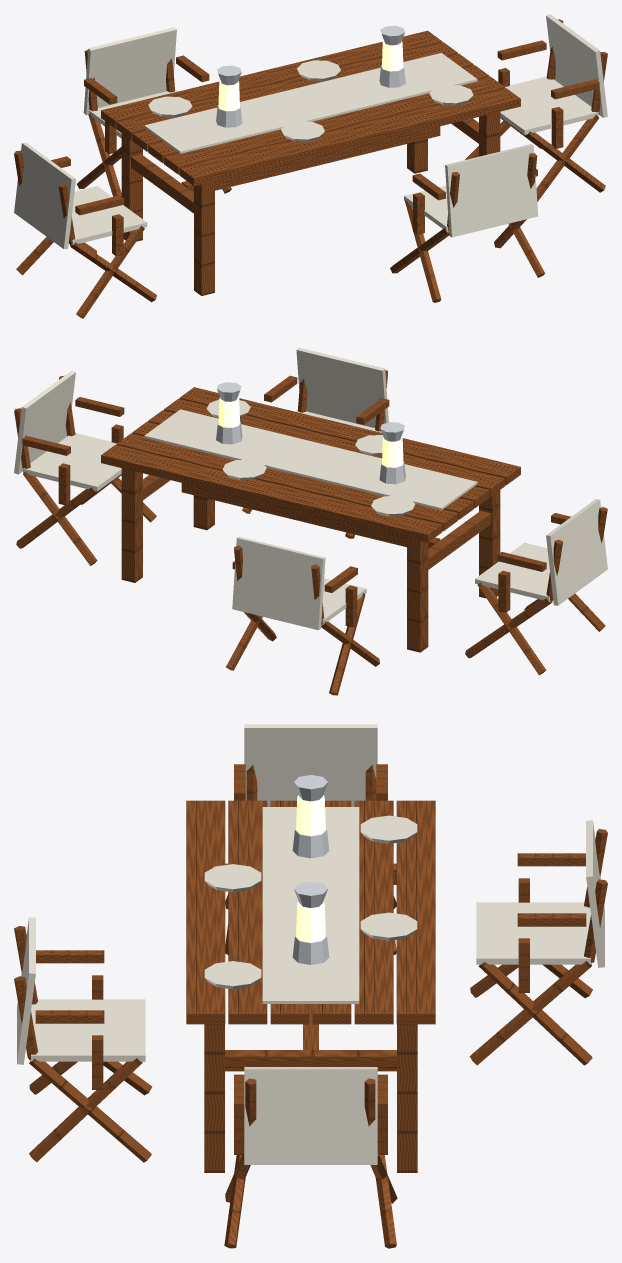
Rendered from safari-camp-and-bush-lodge-dining-table-and-camp-chair-675dd1f7__37689.glb.
3 views of the same model, one above another, from view 1: azimuth 30°, elevation 25°; view 2: azimuth 150°, elevation 25°; view 3: azimuth 270°, elevation 25° (orthographic). The views are drawn at different scales.
Parts seen in each view (by area): view 1: dining-table-and-camp-chairs-timber, dining-table-and-camp-chairs-canvas, dining-table-and-camp-chairs-steel, dining-table-and-camp-chairs-lamp; view 2: dining-table-and-camp-chairs-timber, dining-table-and-camp-chairs-canvas, dining-table-and-camp-chairs-steel, dining-table-and-camp-chairs-lamp; view 3: dining-table-and-camp-chairs-timber, dining-table-and-camp-chairs-canvas, dining-table-and-camp-chairs-steel, dining-table-and-camp-chairs-lamp.
Boxes of the visible parts, left/top/right/bottom form: dining-table-and-camp-chairs-timber: left=14, top=19, right=607, bottom=318; dining-table-and-camp-chairs-canvas: left=14, top=14, right=607, bottom=249; dining-table-and-camp-chairs-steel: left=216, top=25, right=405, bottom=127; dining-table-and-camp-chairs-lamp: left=218, top=40, right=403, bottom=110; dining-table-and-camp-chairs-timber: left=14, top=370, right=607, bottom=695; dining-table-and-camp-chairs-canvas: left=14, top=347, right=607, bottom=630; dining-table-and-camp-chairs-steel: left=216, top=382, right=405, bottom=484; dining-table-and-camp-chairs-lamp: left=218, top=397, right=403, bottom=467; dining-table-and-camp-chairs-timber: left=14, top=764, right=607, bottom=1248; dining-table-and-camp-chairs-canvas: left=17, top=724, right=604, bottom=1164; dining-table-and-camp-chairs-steel: left=292, top=775, right=329, bottom=964; dining-table-and-camp-chairs-lamp: left=296, top=795, right=325, bottom=942.
Size of the model in its own units: 3.69 by 1.18 by 2.59.
4 materials, 1 textured.
